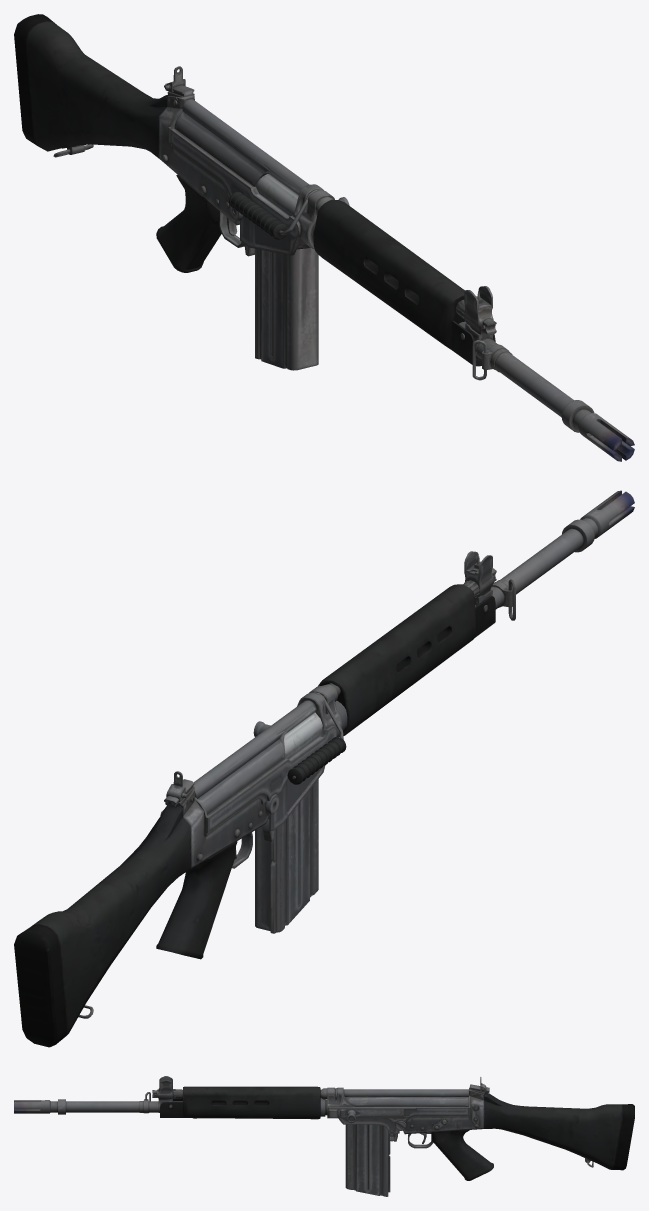
Rendered from rifle.glb.
3 views of the same model, one above another, from view 1: azimuth 30°, elevation 25°; view 2: azimuth 150°, elevation 25°; view 3: azimuth 270°, elevation 25° (orthographic). The views are drawn at different scales.
Size of the model in its own units: 0.075 by 0.1971 by 0.95.
1 material, 1 textured.
